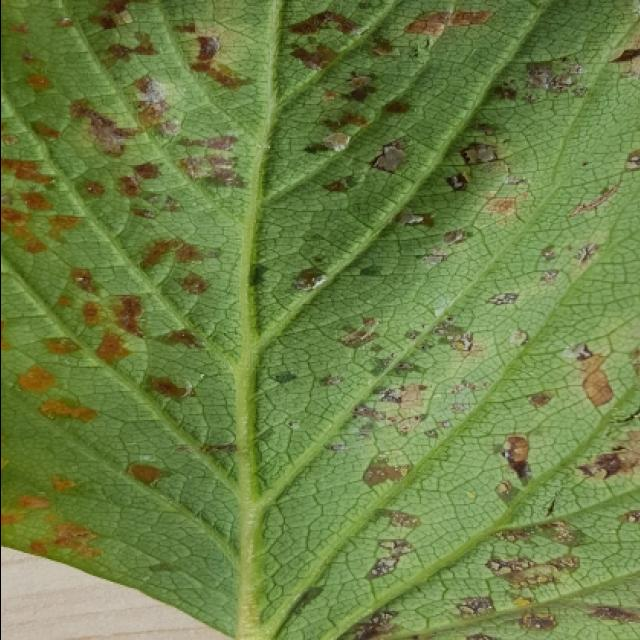Angular Leafspot: (2, 2, 640, 640)
